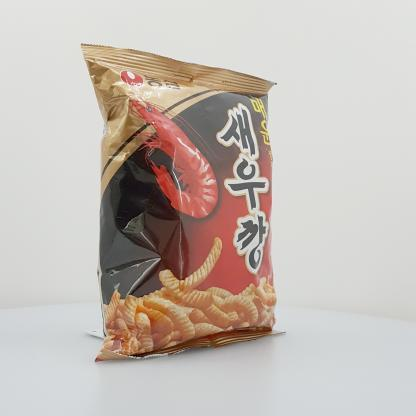Plastic Packaging: (70, 33, 298, 367)
